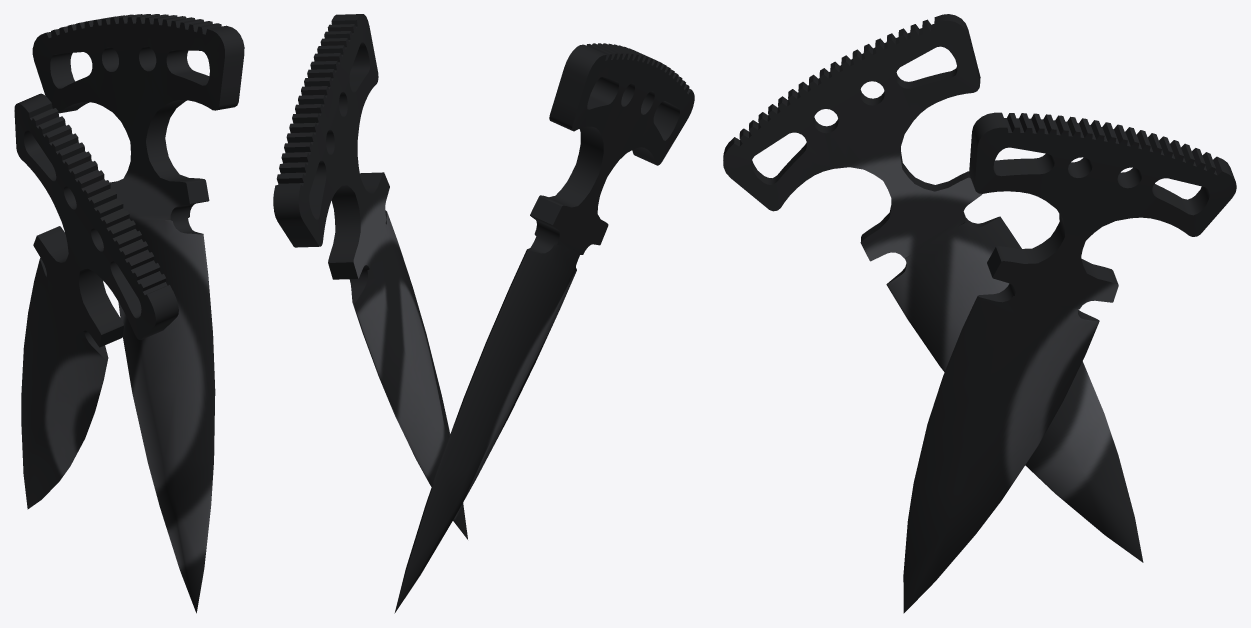
The model's file is dualdaggers.glb.
3 views of the same model, side by side, from view 1: azimuth 30°, elevation 25°; view 2: azimuth 150°, elevation 25°; view 3: azimuth 270°, elevation 25° (orthographic). The views are drawn at different scales.
Visible parts, largest first — view 1: L0_LOD0_R; view 2: L0_LOD0_R; view 3: L0_LOD0_R.
Boxes of the visible parts, left/top/right/bottom form: L0_LOD0_R: left=14, top=14, right=244, bottom=613; L0_LOD0_R: left=273, top=14, right=694, bottom=613; L0_LOD0_R: left=723, top=14, right=1236, bottom=613.
Bounding box in the file's own units: 0.134 × 0.2872 × 0.2517.
1 material, 1 textured.
